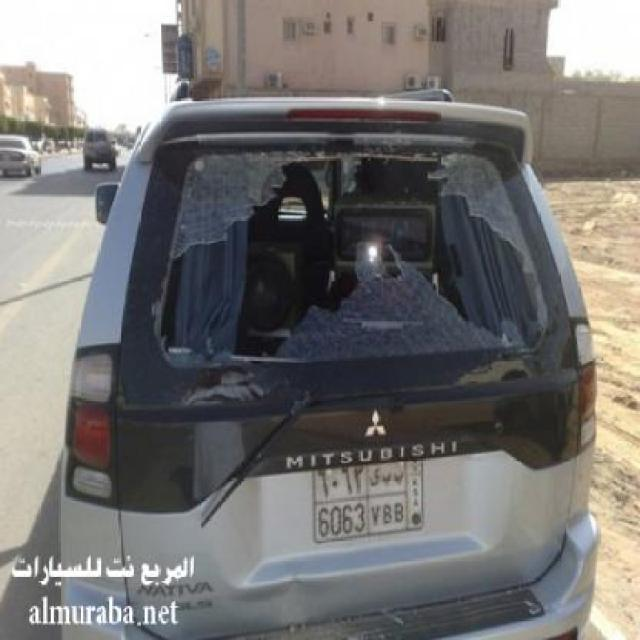license_plate: (312, 454, 426, 548)
